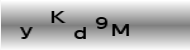9: (95, 16, 108, 29)
K: (49, 10, 65, 25)
M: (110, 23, 131, 38)
d: (72, 25, 89, 40)
y: (18, 24, 35, 41)
